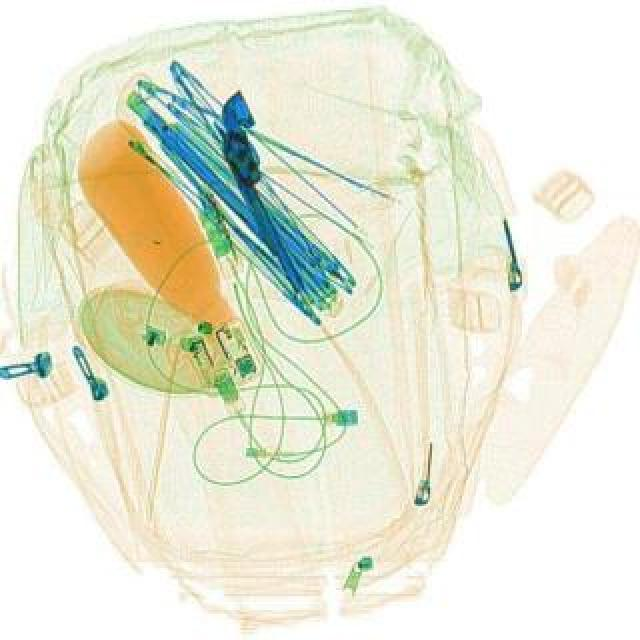gun: (204, 86, 322, 294)
